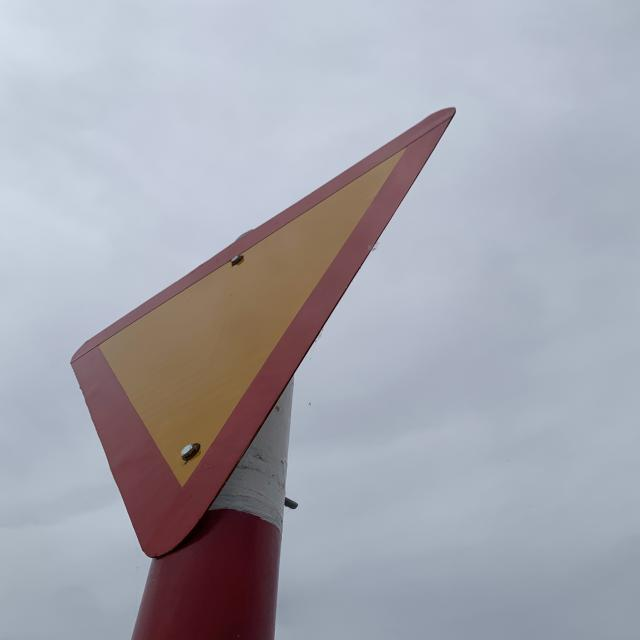Gioi_Han_Toc_Do_25: (68, 107, 454, 554)
